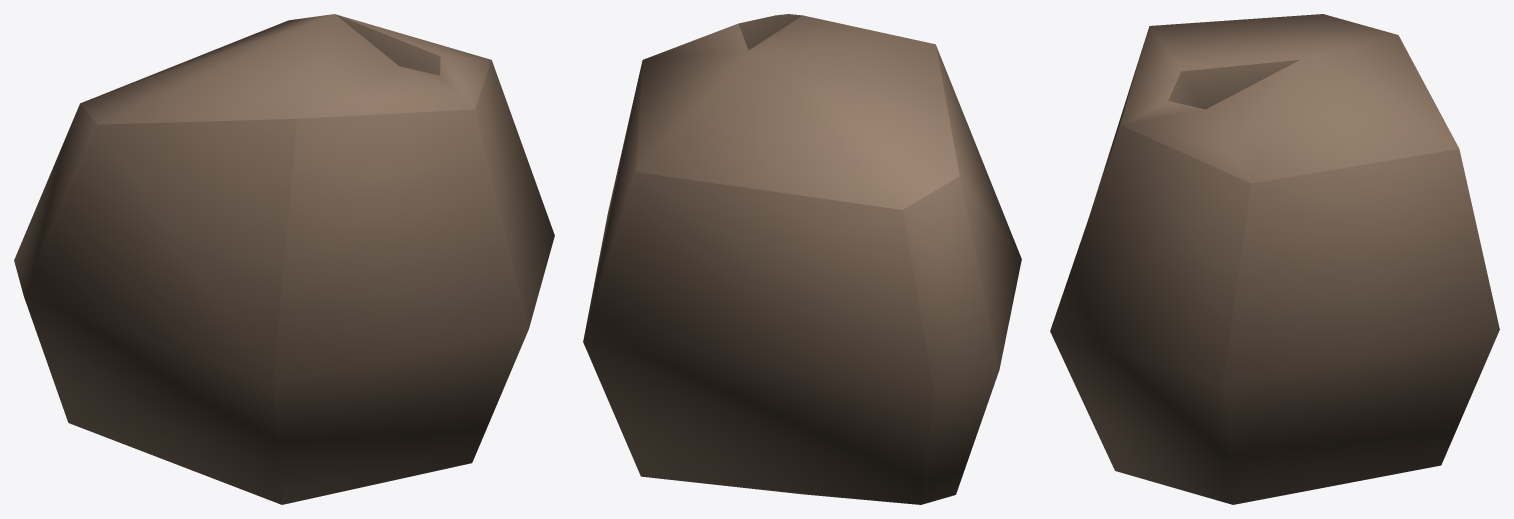
The model's file is Rock_Small_1E.fbx.
The picture shows the model from 3 angles, left to right: view 1: azimuth 30°, elevation 25°; view 2: azimuth 150°, elevation 25°; view 3: azimuth 270°, elevation 25°; orthographic projection.
Visible parts, largest first — view 1: Rock_Small_1E; view 2: Rock_Small_1E; view 3: Rock_Small_1E.
Part boxes in pixels (left/top/right/bottom): Rock_Small_1E: left=14, top=14, right=554, bottom=504; Rock_Small_1E: left=583, top=14, right=1021, bottom=504; Rock_Small_1E: left=1050, top=14, right=1499, bottom=504.
Size of the model in its own units: 104 by 93.27 by 88.1.
